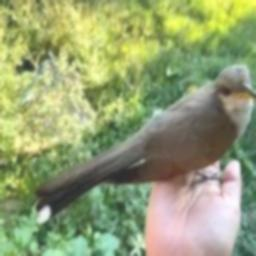Cuckoo: (35, 65, 256, 224)
